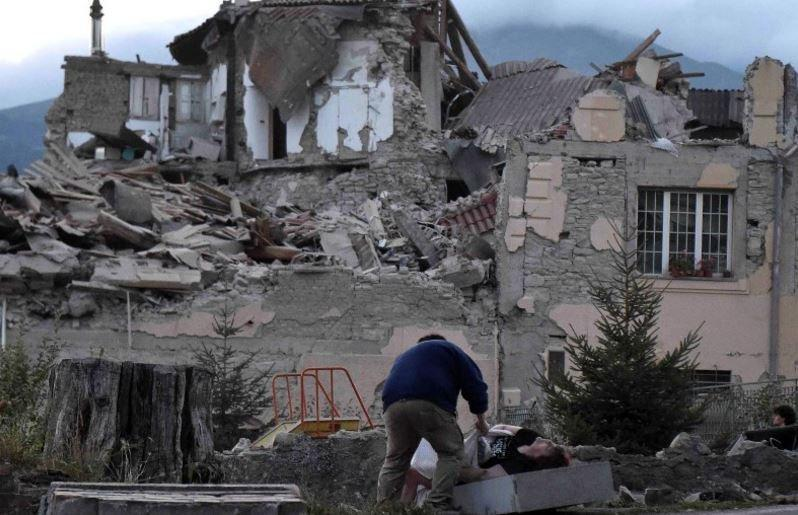destroyed: (8, 16, 798, 315)
